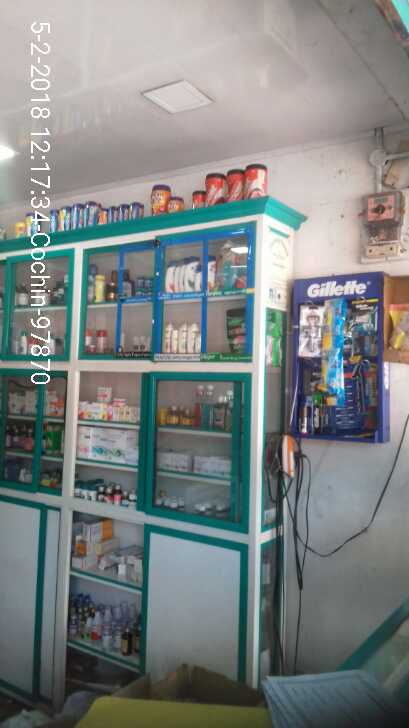vicks: (129, 274, 160, 299)
